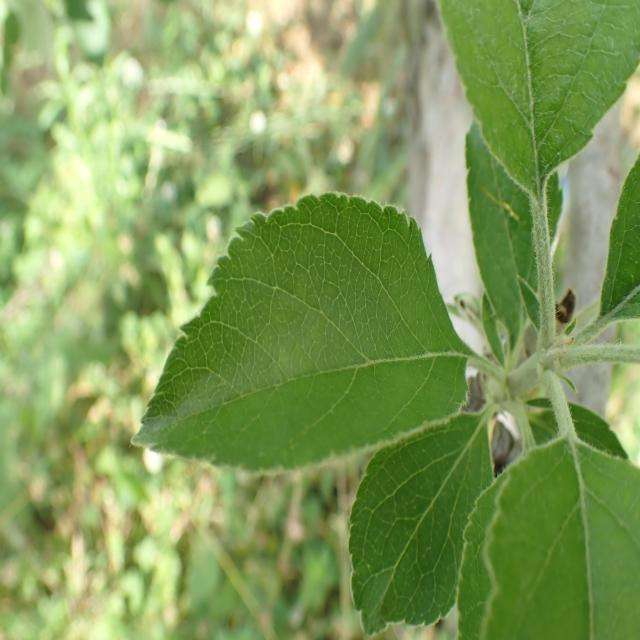healthy: (129, 191, 471, 476), (434, 0, 640, 193), (348, 411, 494, 636), (481, 434, 640, 640), (465, 121, 563, 356), (599, 152, 640, 322)
